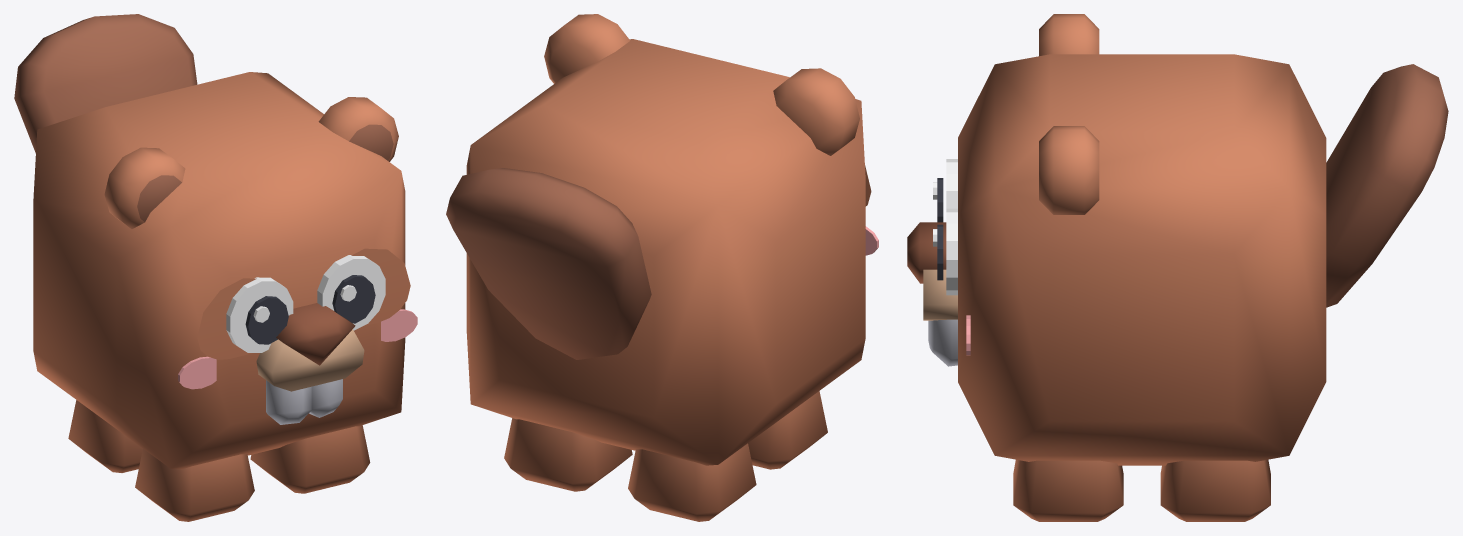
The model's file is beaver.glb.
The picture shows the model from 3 angles, left to right: view 1: azimuth 30°, elevation 25°; view 2: azimuth 150°, elevation 25°; view 3: azimuth 270°, elevation 25°; orthographic projection. The views are drawn at different scales.
Visible parts, largest first — view 1: body, tail, leg-front-right, leg-front-left, leg-back-right; view 2: body, tail, leg-back-right, leg-back-left, leg-front-right; view 3: body, tail, leg-front-left, leg-back-left.
Part boxes in pixels (box(x1,y1,x2,y2)): body: box(33, 72, 417, 469); tail: box(14, 14, 197, 153); leg-front-right: box(135, 449, 254, 521); leg-front-left: box(250, 425, 370, 493); leg-back-right: box(68, 400, 142, 472); body: box(466, 14, 878, 465); tail: box(446, 168, 651, 359); leg-back-right: box(628, 443, 756, 521); leg-back-left: box(504, 418, 632, 491); leg-front-right: box(748, 391, 827, 469); body: box(907, 14, 1326, 465); tail: box(1326, 64, 1448, 307); leg-front-left: box(1013, 459, 1123, 521); leg-back-left: box(1160, 459, 1270, 521).
Bounding box in the file's own units: 1.25 × 1.5 × 1.84.
Materials: 1 (1 with a texture image).
